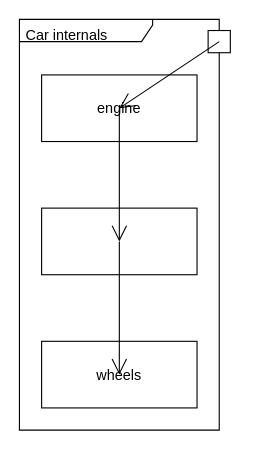
Image size: 254x450. Some labels were removed from this diagram. The shapes that lost their labels are listed below. From the top down, each one's box as (x1, y1, x2, y2) in pixels, then its label:
(207, 29, 230, 53): fuel
(41, 207, 197, 275): gearbox
